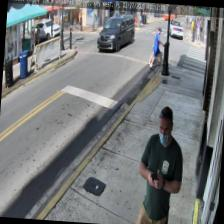person: (134, 102, 186, 224)
